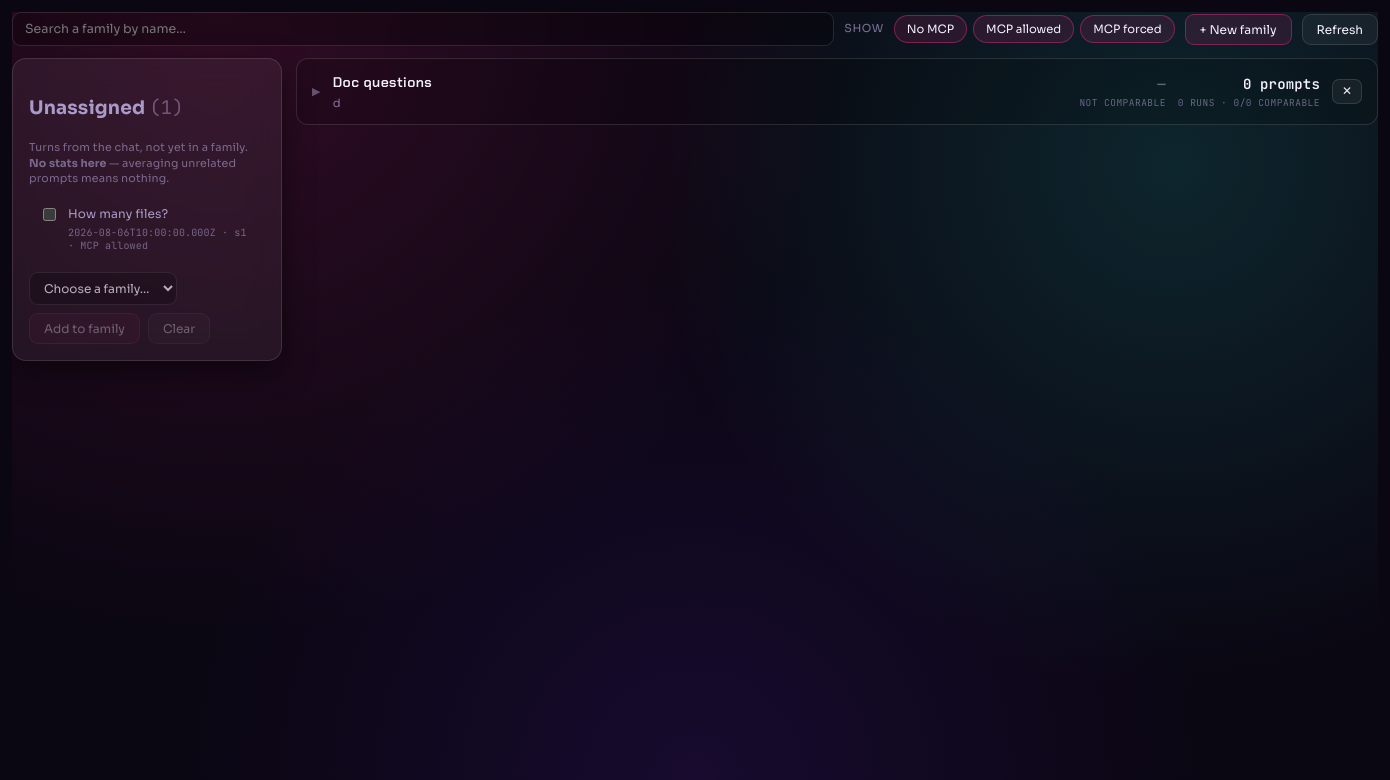
Test: FamiliesTab › assigning a selected inbox turn moves it out of Unassigned
This screenshot has width=1390, height=780.
Expected: the text "How many files?" is shown, [68,206,168,221]
Click the checkbox: (50, 215) [43,208,56,221]
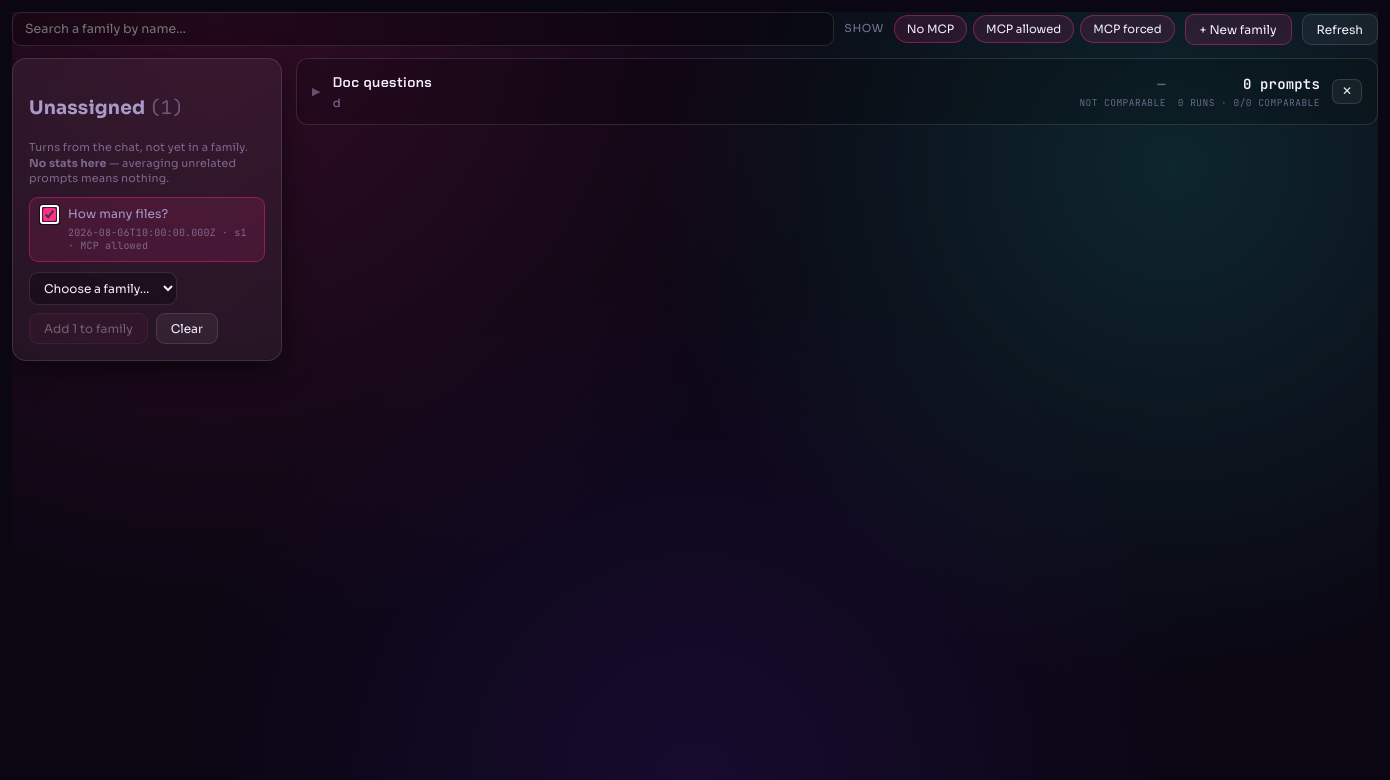
Select "Doc questions" in the dropdown named "Target family": (103, 288) [29,272,177,305]
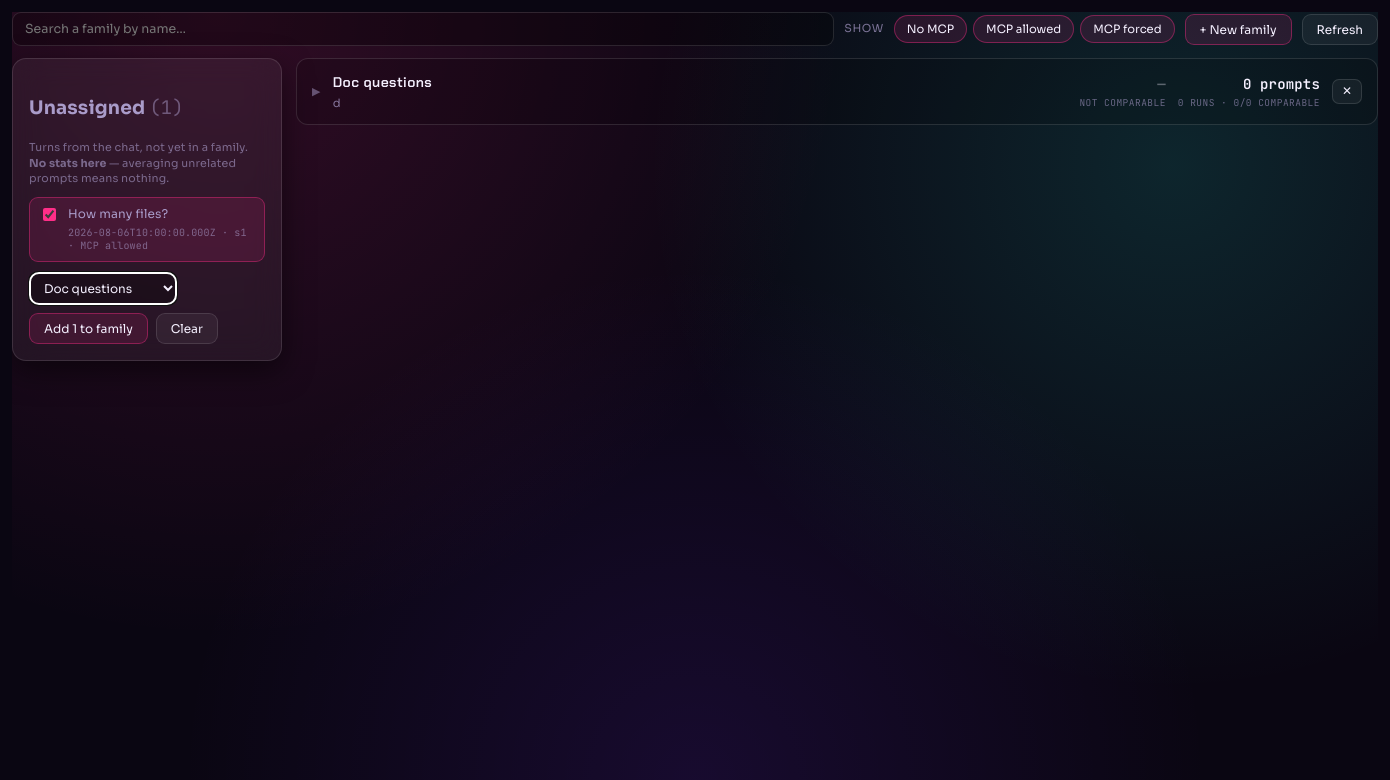
Click the button "Add 1 to family": (88, 328) [29,313,148,344]
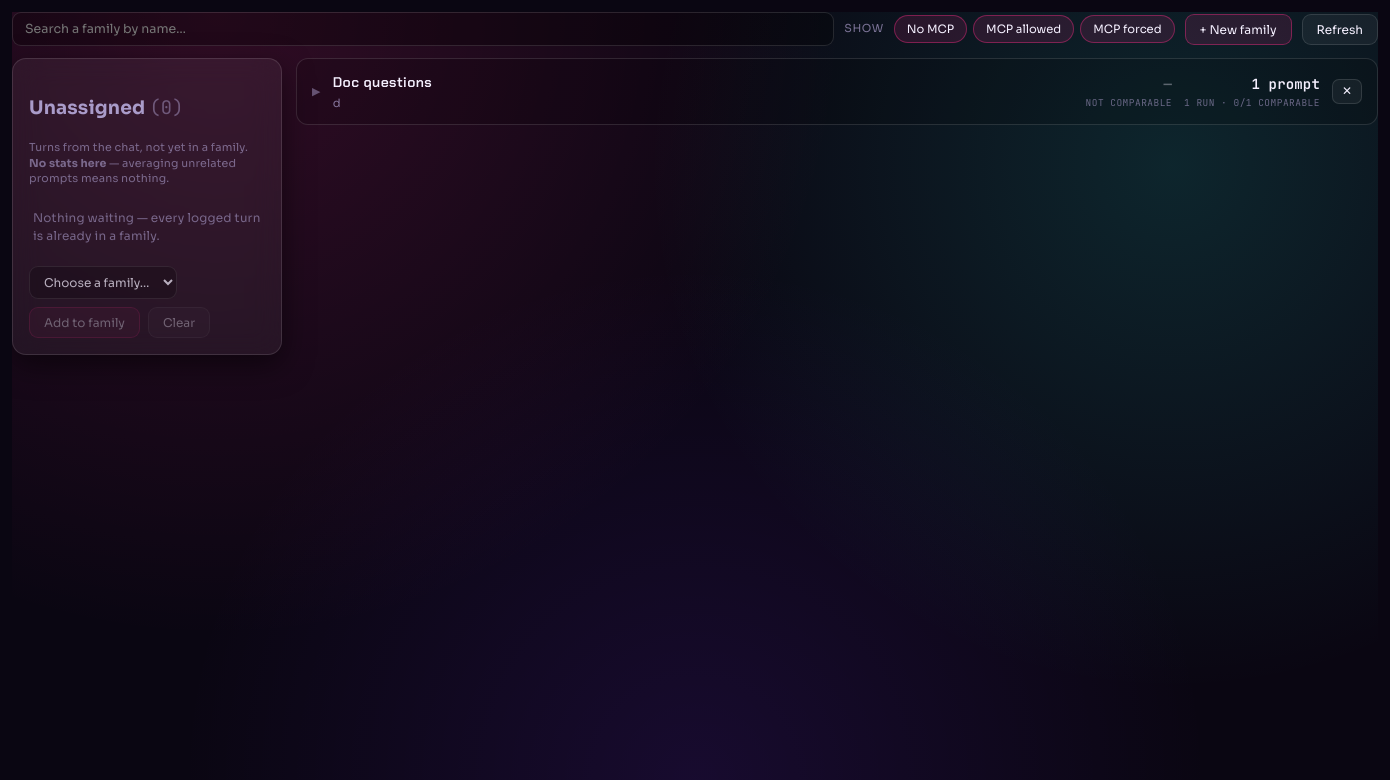
Now the text "How many files?" is gone
